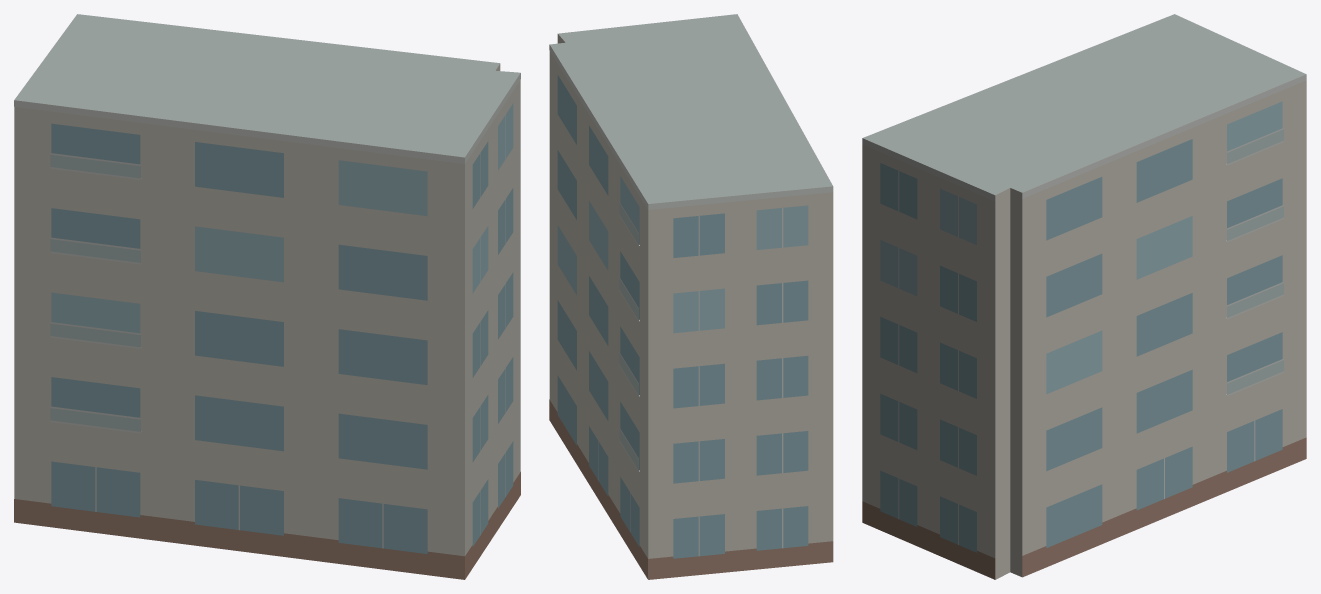
The model's file is survey-upis-32645444.glb.
3 views of the same model, side by side, from view 1: azimuth 30°, elevation 25°; view 2: azimuth 150°, elevation 25°; view 3: azimuth 270°, elevation 25° (orthographic). The views are drawn at different scales.
Visible parts, largest first — view 1: survey-upis-32645444.tmp; view 2: survey-upis-32645444.tmp; view 3: survey-upis-32645444.tmp.
Boxes of the visible parts, x1,y1,x2,y2 form: survey-upis-32645444.tmp: (14,14,520,579); survey-upis-32645444.tmp: (549,14,833,579); survey-upis-32645444.tmp: (862,14,1306,579).
Bounding box in the file's own units: 15.73 × 15.55 × 16.29.
